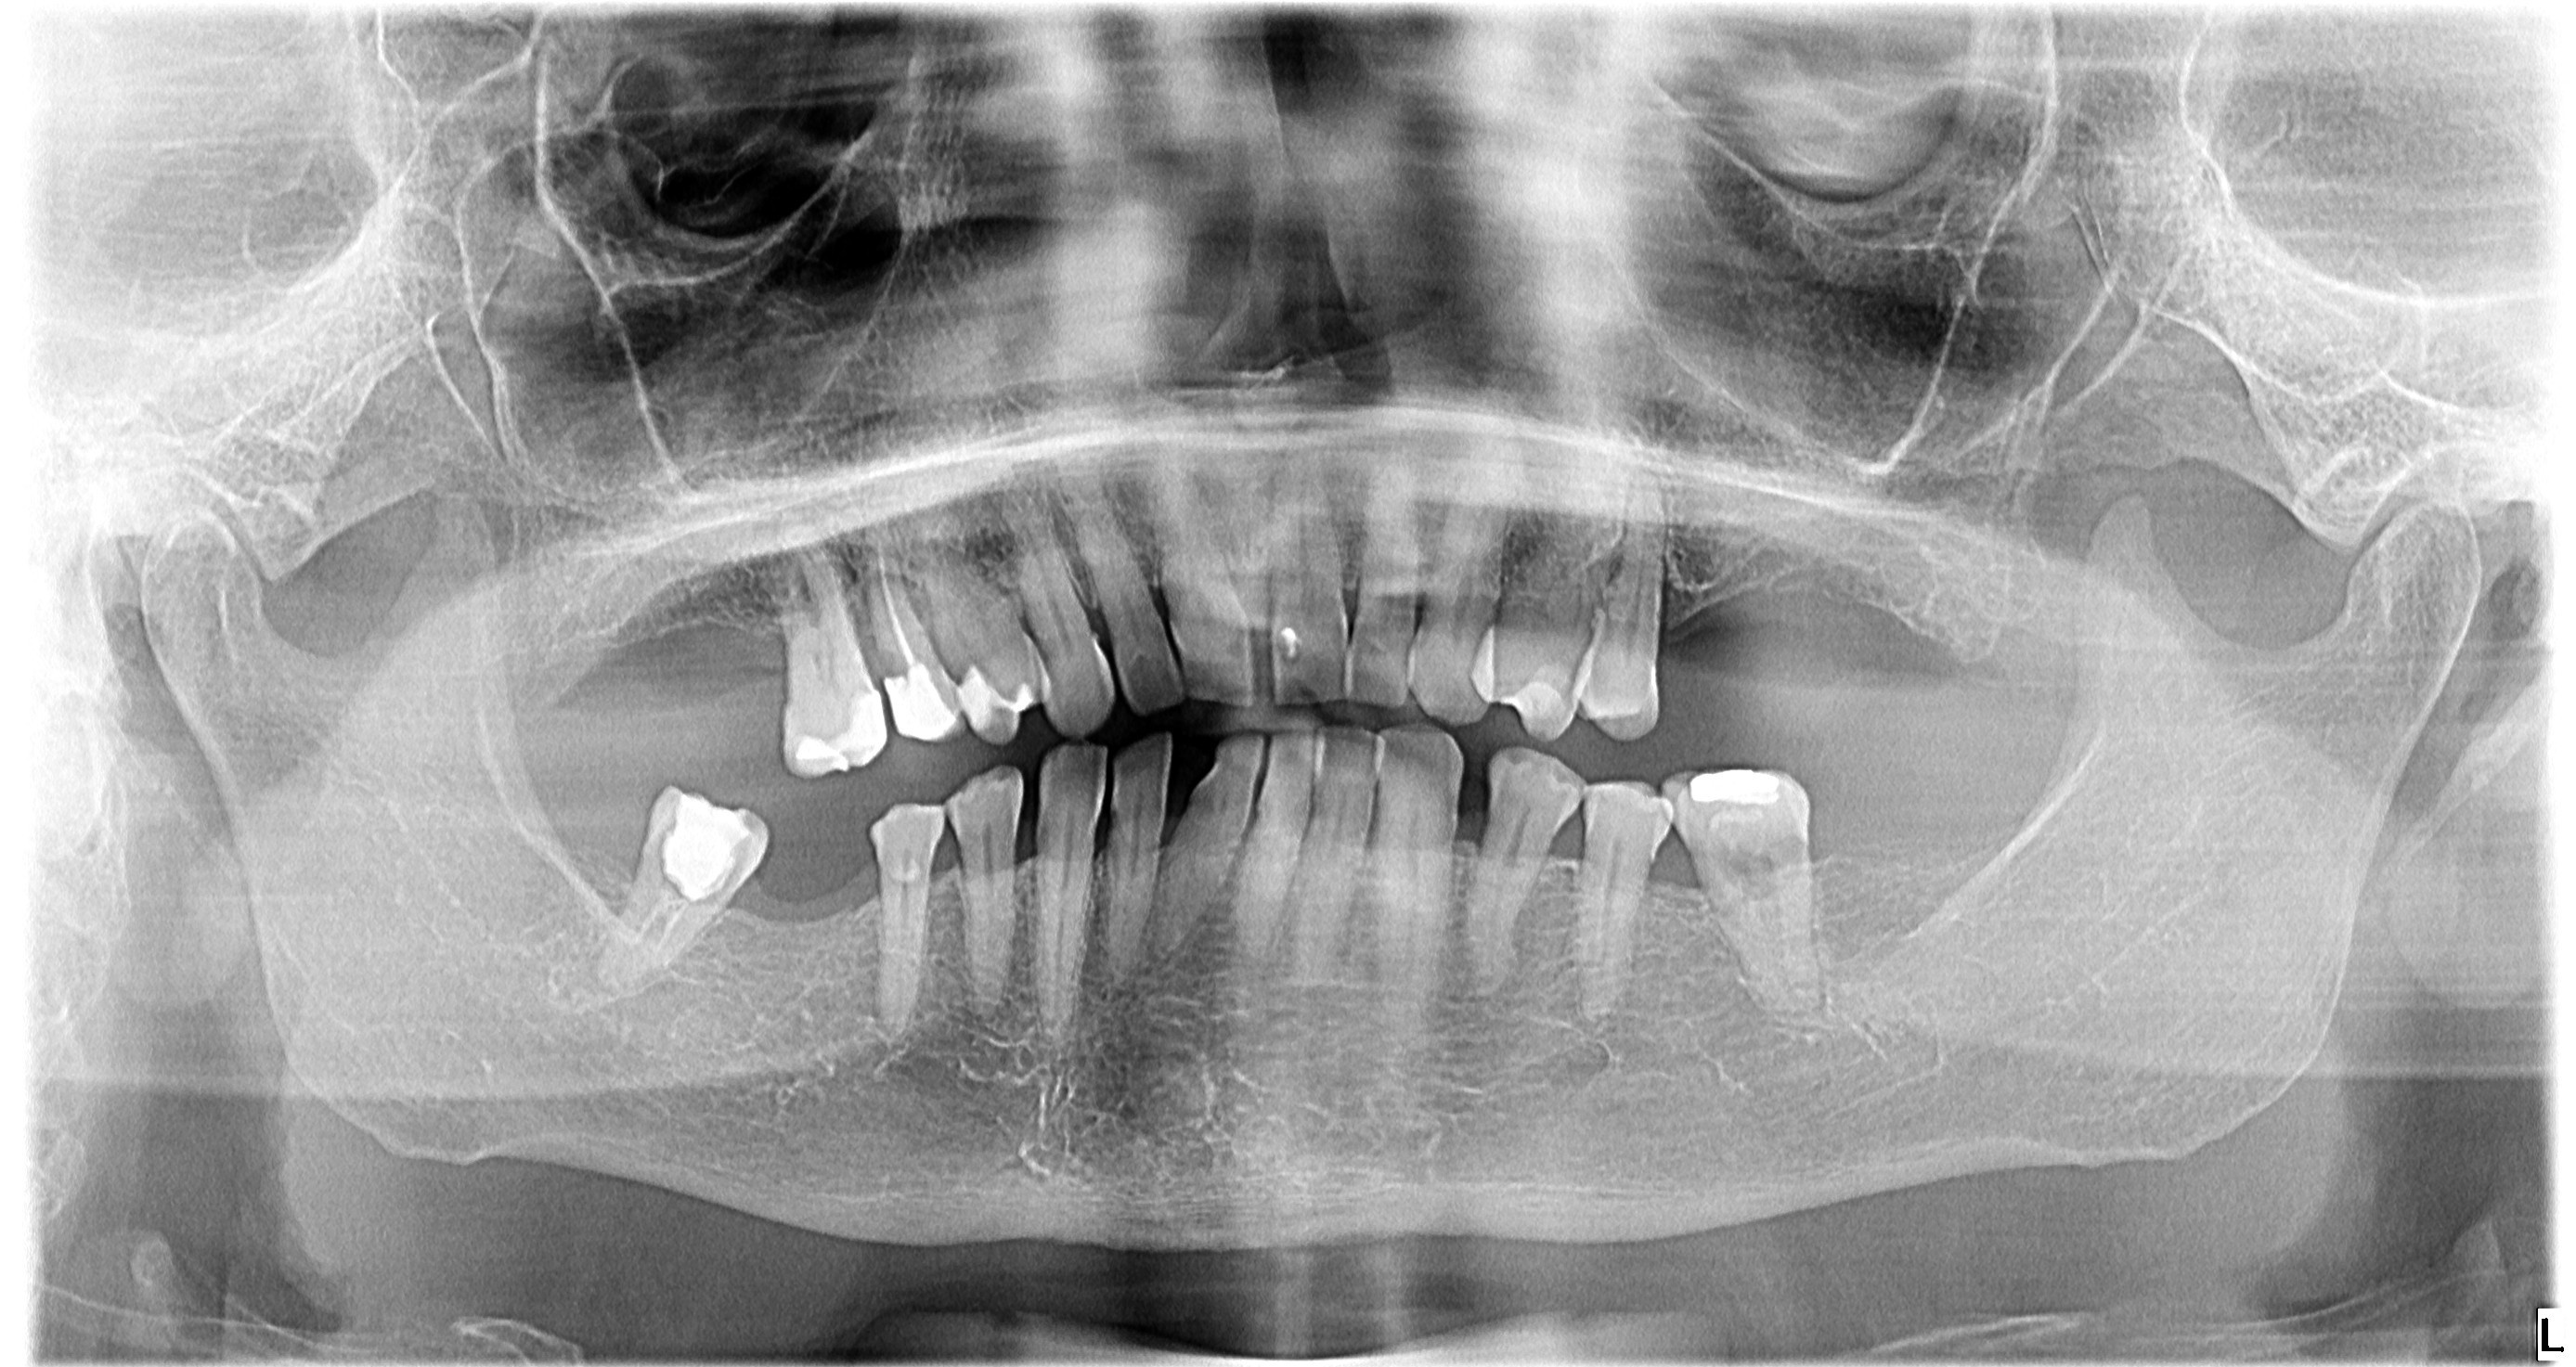CAR: (864, 642, 903, 681)
END: (871, 533, 922, 667), (625, 890, 697, 969)
PRR: (639, 805, 760, 895), (956, 662, 1022, 761), (1685, 754, 1792, 814), (1506, 654, 1574, 741), (886, 672, 956, 752), (833, 684, 877, 778), (784, 734, 831, 773), (1273, 616, 1303, 669)
